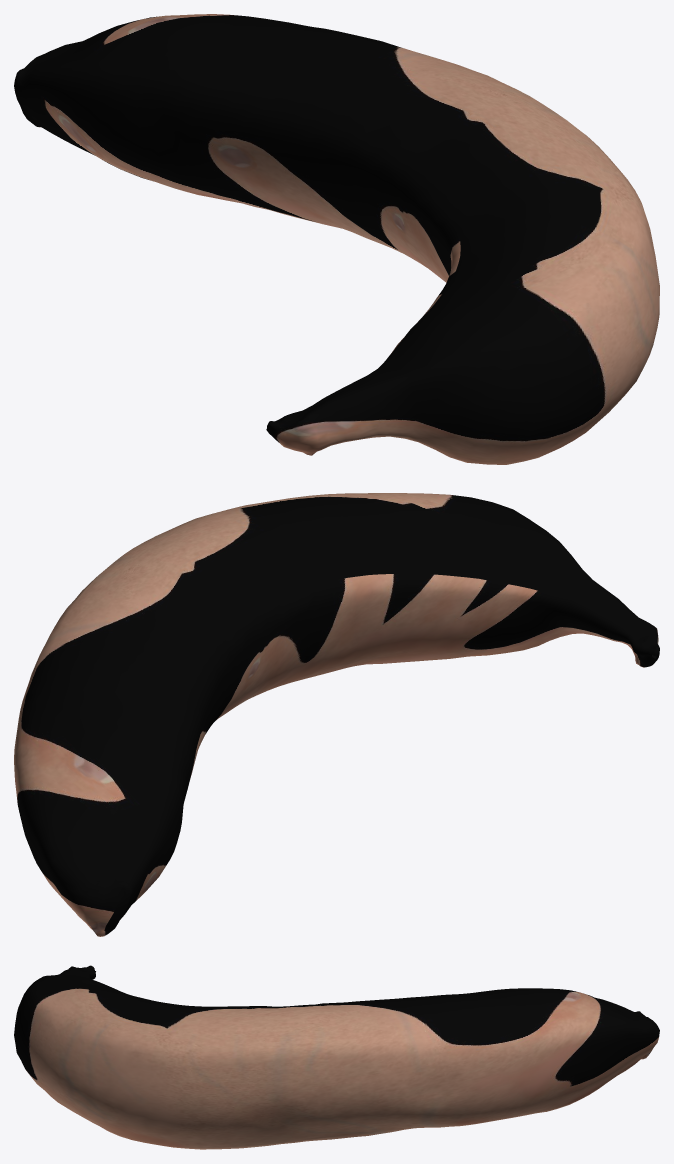
The picture shows the model from 3 angles, top to bottom: view 1: azimuth 30°, elevation 25°; view 2: azimuth 150°, elevation 25°; view 3: azimuth 270°, elevation 25°; orthographic projection. The views are drawn at different scales.
Bounding box in the file's own units: 19.34 × 8.26 × 35.87.
